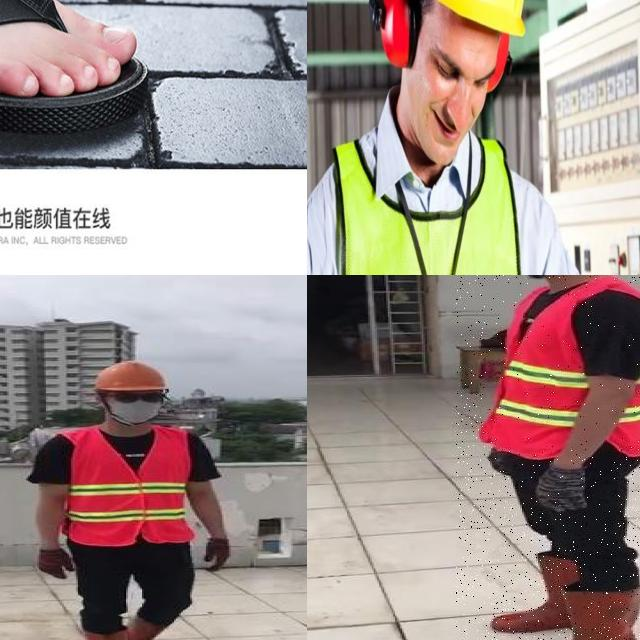Ear-protection: (365, 0, 532, 187)
No_Glasses: (426, 30, 492, 109)
Sandals: (0, 0, 151, 126)
boots: (488, 546, 616, 637), (517, 585, 640, 640), (124, 618, 158, 640)
face_mask: (106, 388, 167, 426)
glasses: (104, 388, 170, 406)
hand_glove: (35, 550, 78, 579), (206, 539, 229, 574)
head_helmet: (93, 358, 171, 394)
person: (456, 275, 640, 640), (18, 352, 244, 640)
vest: (485, 283, 640, 457), (65, 428, 194, 544)
